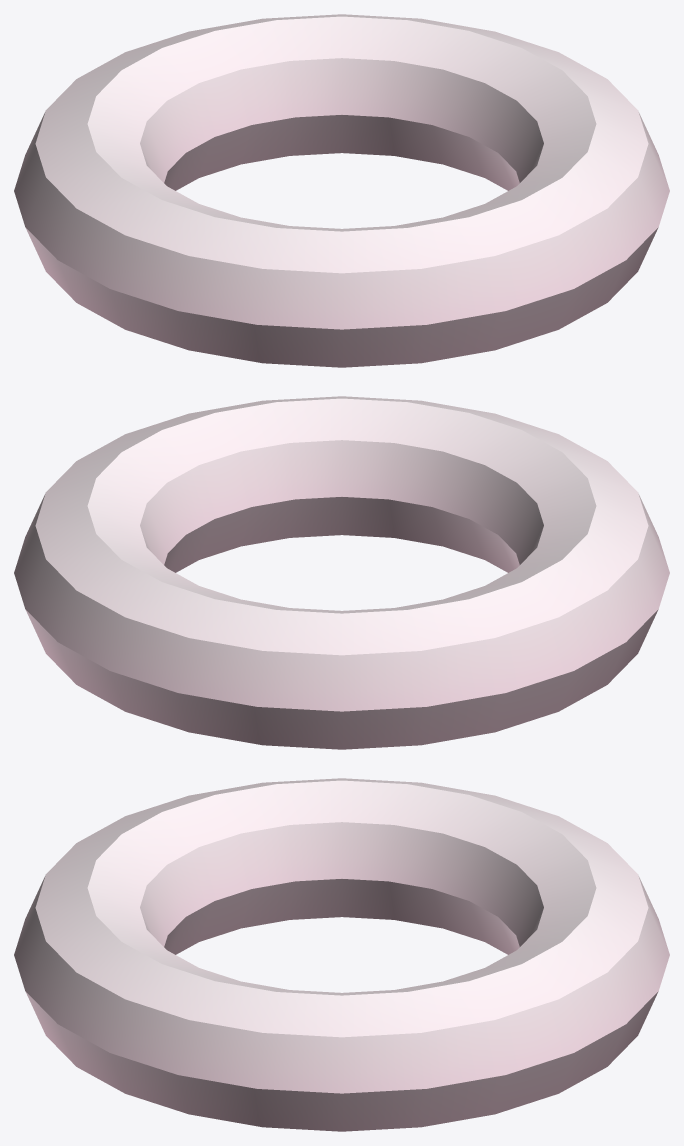
Rendered from Body_Prop_Neck_02.fbx.
3 renders of one model, top to bottom at view 1: azimuth 30°, elevation 25°; view 2: azimuth 150°, elevation 25°; view 3: azimuth 270°, elevation 25°, orthographic.
Visible parts, largest first — view 1: Body_Prop_Neck_02; view 2: Body_Prop_Neck_02; view 3: Body_Prop_Neck_02.
Boxes of the visible parts, x1=… form: Body_Prop_Neck_02: x1=14, y1=14, x2=669, y2=367; Body_Prop_Neck_02: x1=14, y1=396, x2=669, y2=749; Body_Prop_Neck_02: x1=14, y1=778, x2=669, y2=1131.
Bounding box in the file's own units: 125 × 28.06 × 125.
